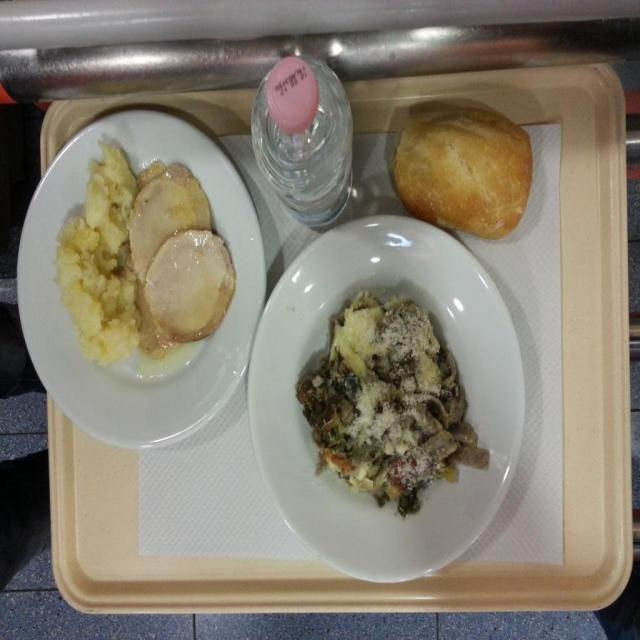plate: (245, 213, 527, 589), (20, 109, 266, 457), (392, 96, 530, 244)
